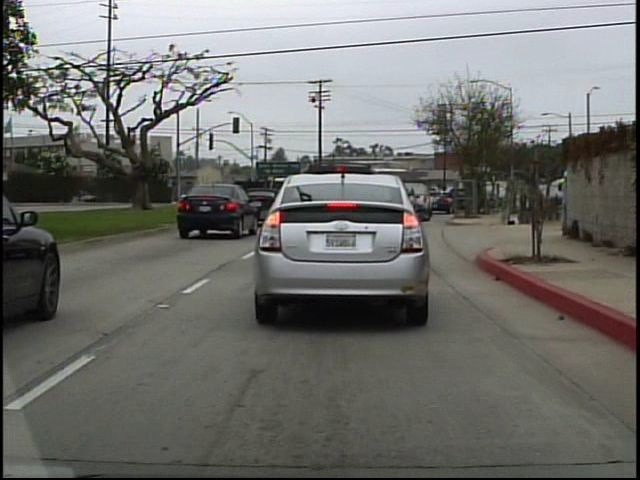person: (552, 163, 573, 242)
